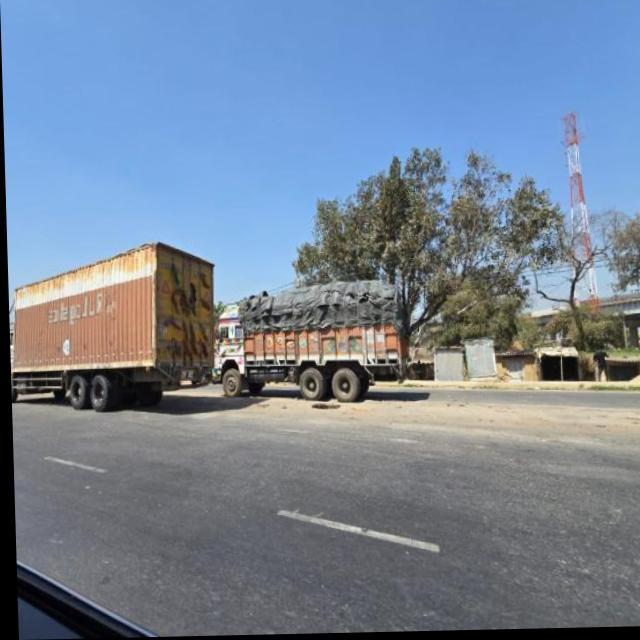covered: (5, 233, 218, 398), (237, 279, 412, 408)
